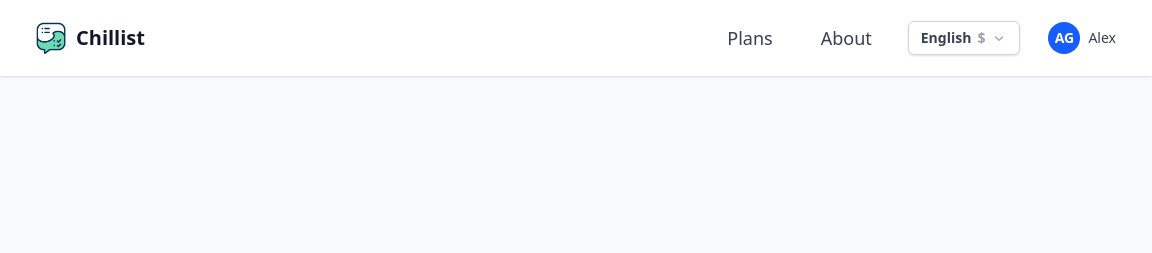
Test case: Header › authenticated - user dropdown › opens dropdown on avatar click showing user details
This screenshot has width=1152, height=253.
Click the button with aria-label "User menu" at (1082, 38), box [1044, 18, 1120, 58]
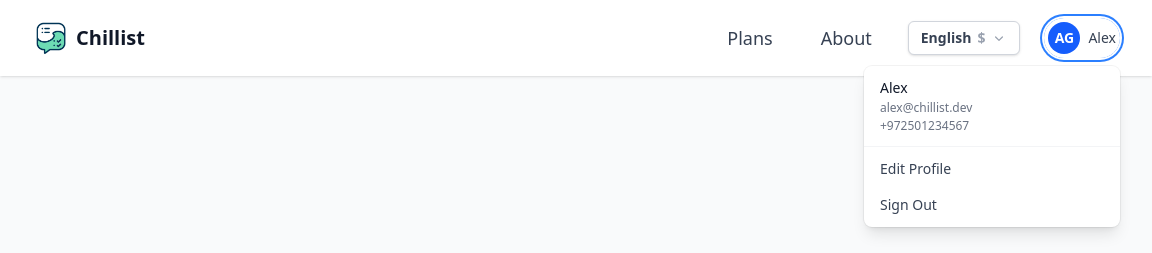
Expected: the text with test id "menu-display-name" reads "Alex", [880, 78, 908, 97]
Expected: the text with test id "menu-email" reads "alex@chillist.dev", [880, 99, 972, 116]
Expected: the text with test id "menu-phone" reads "+972501234567", [880, 117, 969, 134]
